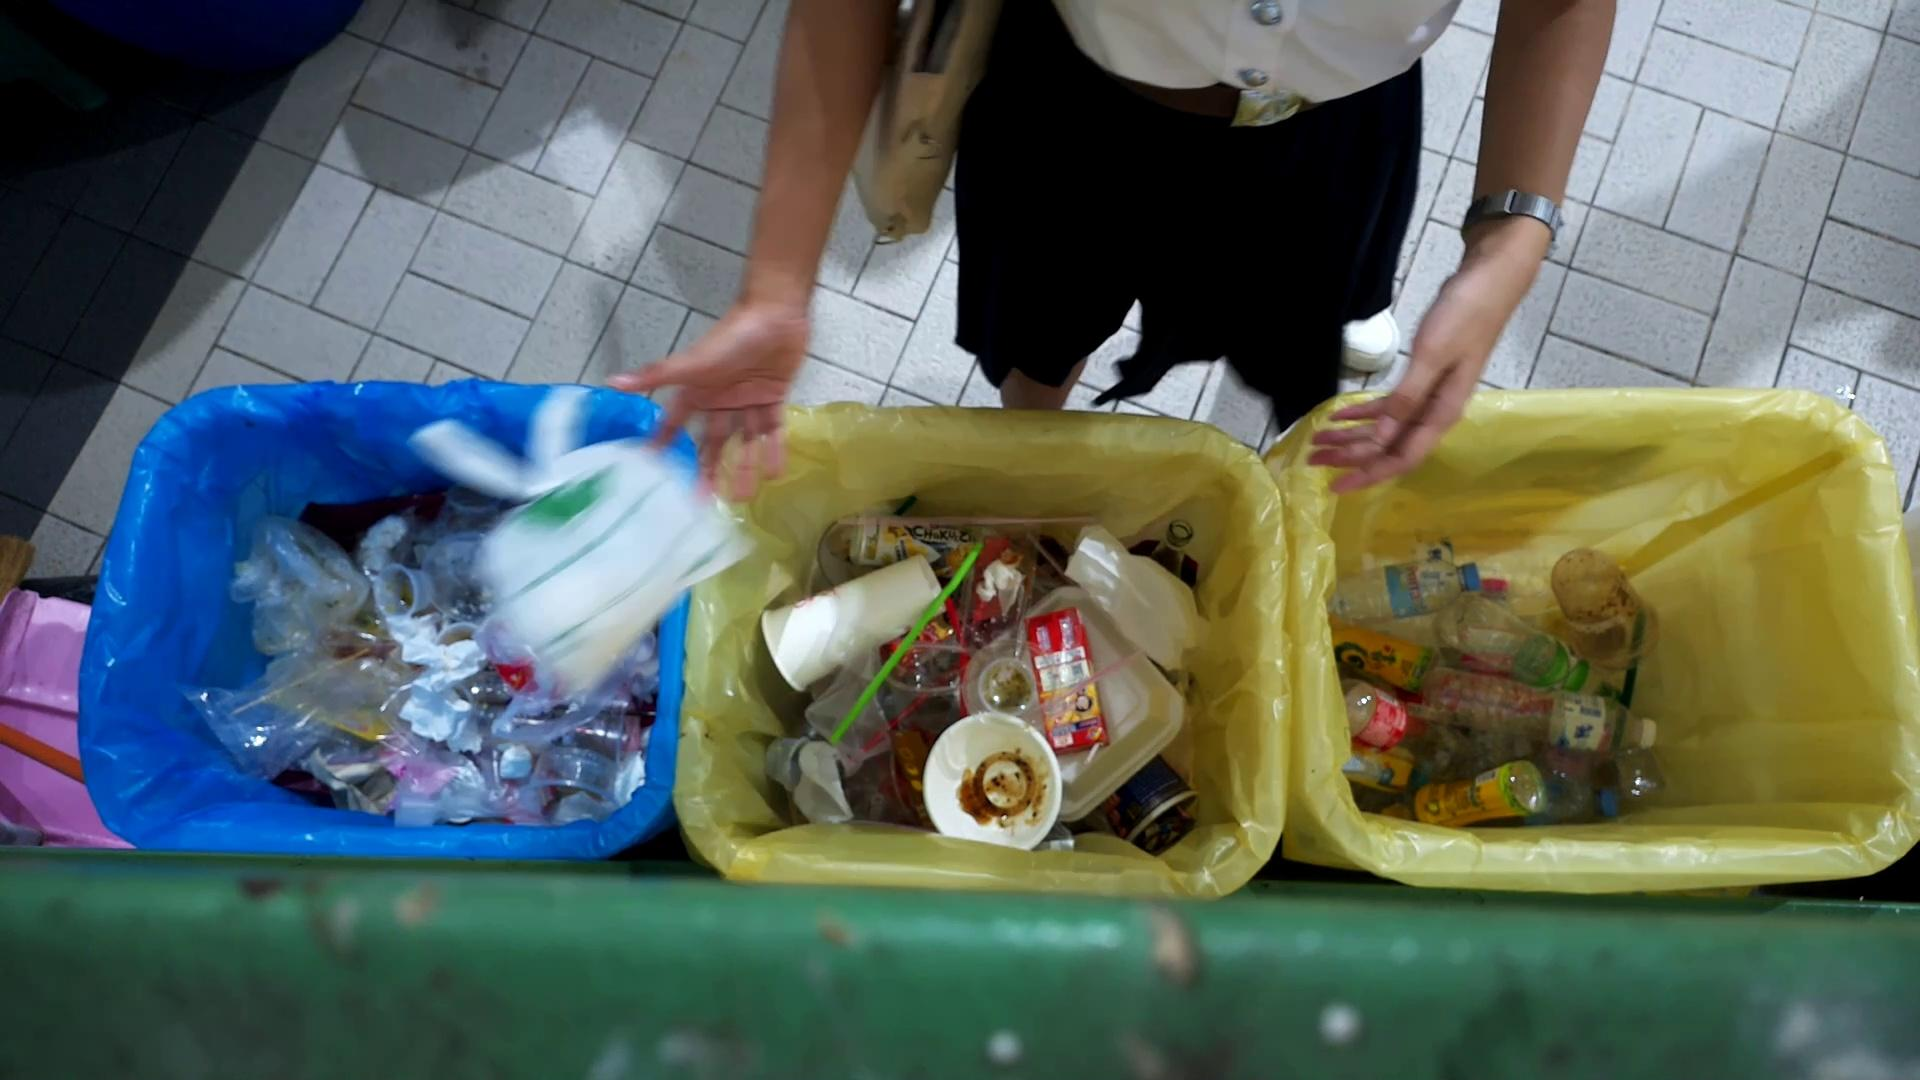can: (844, 508, 990, 579)
filled plastic bag: (405, 381, 764, 707)
food container: (918, 709, 1063, 853), (509, 732, 625, 825), (976, 655, 1040, 720), (369, 563, 434, 626), (761, 731, 814, 796)
milk carton: (1023, 604, 1113, 754)
plastic bag: (186, 642, 413, 785), (223, 505, 372, 644), (375, 716, 542, 831), (1068, 524, 1188, 675), (803, 618, 897, 783)
plastic bottle: (1418, 659, 1662, 758), (1439, 584, 1623, 700), (1331, 547, 1486, 641), (1379, 756, 1548, 828)
plastic cup: (1552, 542, 1669, 671)
sticks: (225, 646, 372, 720)
straw: (827, 543, 988, 753), (1031, 651, 1149, 727), (823, 516, 1096, 531), (1084, 738, 1101, 766)
tissue paper: (409, 641, 488, 716), (795, 736, 856, 825), (401, 694, 479, 758), (385, 608, 440, 669), (495, 740, 535, 782)
zero waste cup: (760, 551, 948, 694)
